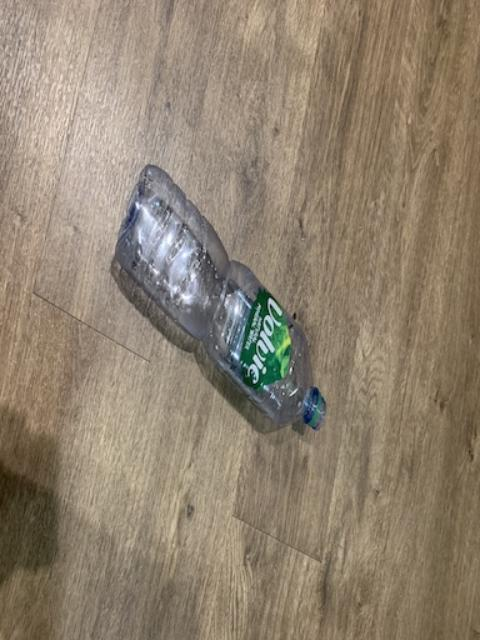plastic: (115, 164, 324, 428)
